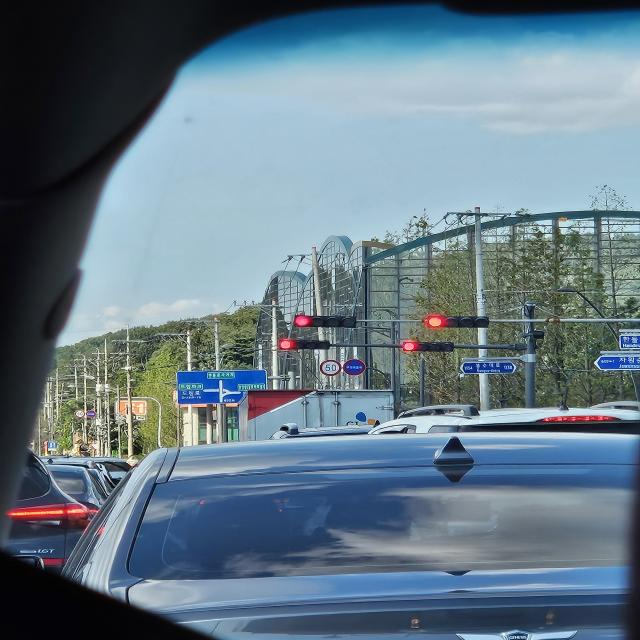Red Light: (426, 315, 443, 327), (294, 315, 310, 327), (278, 340, 292, 350), (402, 341, 416, 351)
